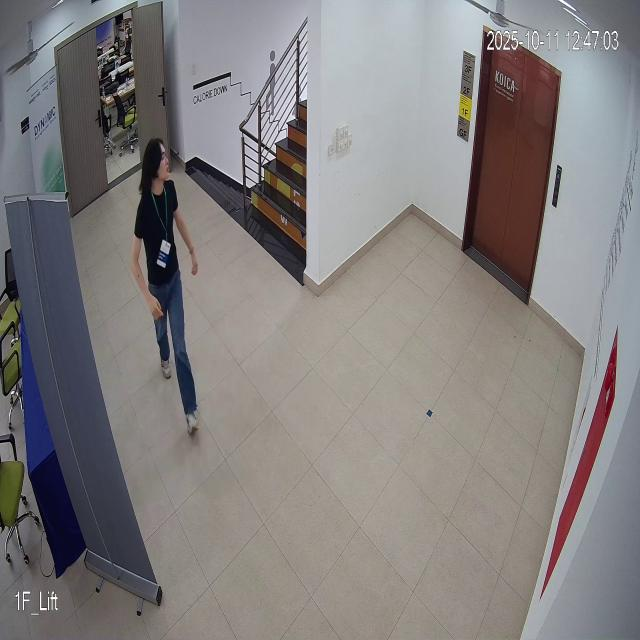face: (136, 132, 178, 203)
